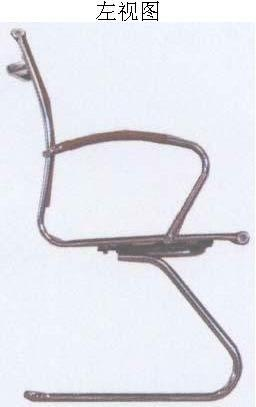obstacle: (11, 28, 248, 401)
